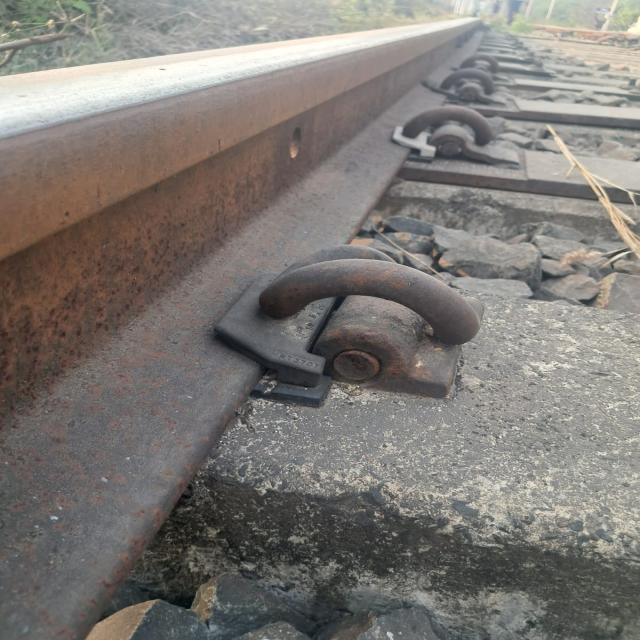overrailed: (225, 200, 542, 434)
